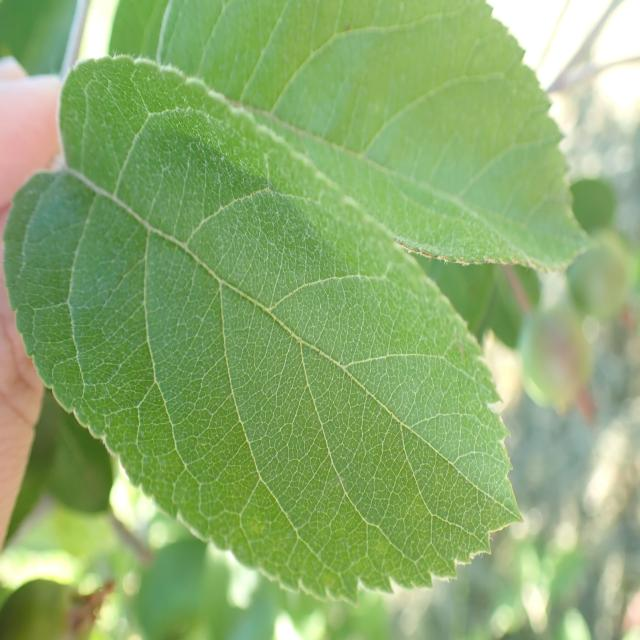healthy: (1, 53, 523, 604), (109, 1, 595, 273)
